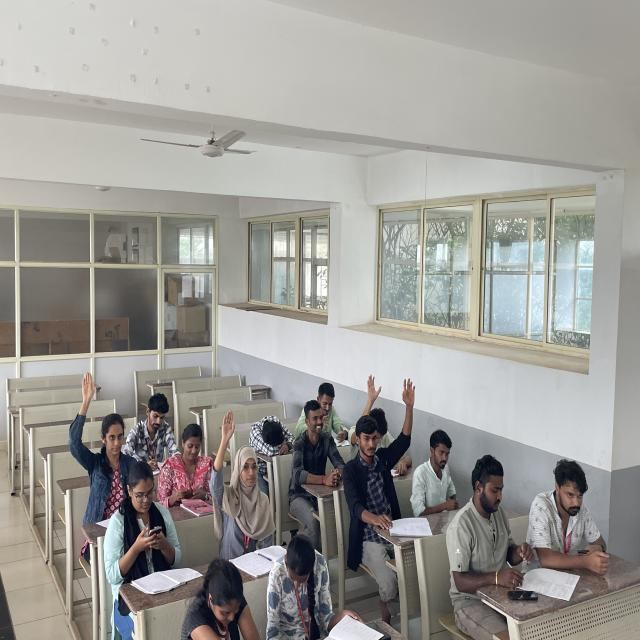Hand Rising: (342, 379, 417, 559), (210, 411, 278, 561), (72, 373, 134, 512), (364, 369, 400, 452)
Reading: (448, 450, 542, 599)
Sleeping: (245, 411, 298, 461)
Using Phone: (103, 461, 185, 586), (532, 455, 609, 576), (156, 422, 222, 503)
Writing: (128, 391, 182, 468)
